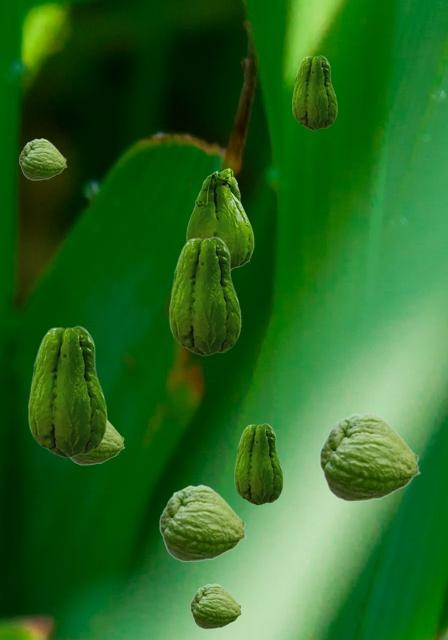sayote: (28, 325, 106, 457), (319, 412, 420, 501), (169, 236, 240, 355), (186, 168, 253, 270), (159, 484, 246, 561), (234, 423, 282, 504), (292, 55, 336, 129), (69, 419, 124, 464), (190, 583, 241, 628), (19, 138, 66, 179)
